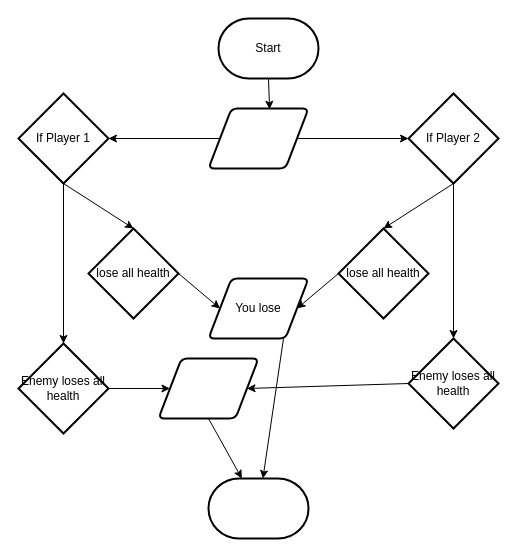
Some shapes in this 516 by 556 pixel diagram are drawn without their labels. The centre of each missing label's shape, as x and y in pixels:
"Press Enter To Begin The Game" belongs at point (258, 138).
"Stop" belongs at point (258, 508).
"You win" belongs at point (208, 388).
